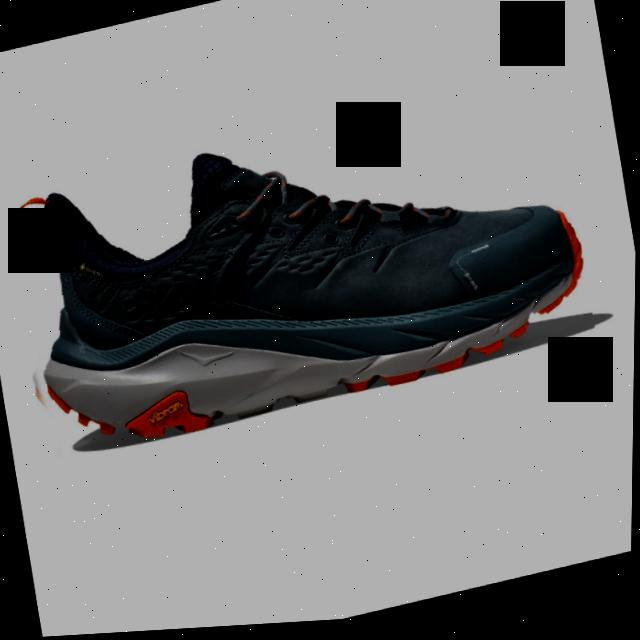shoe: (2, 140, 587, 454)
